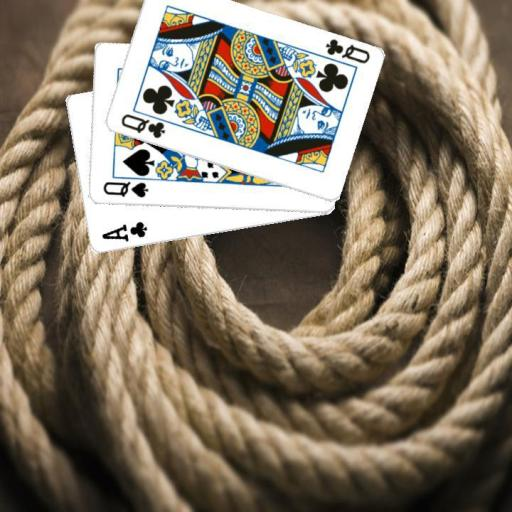AC: (98, 218, 148, 244)
QC: (322, 36, 372, 66), (118, 111, 167, 140)
QS: (100, 178, 150, 200)
